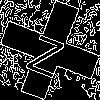Z: (25, 25, 70, 79)
